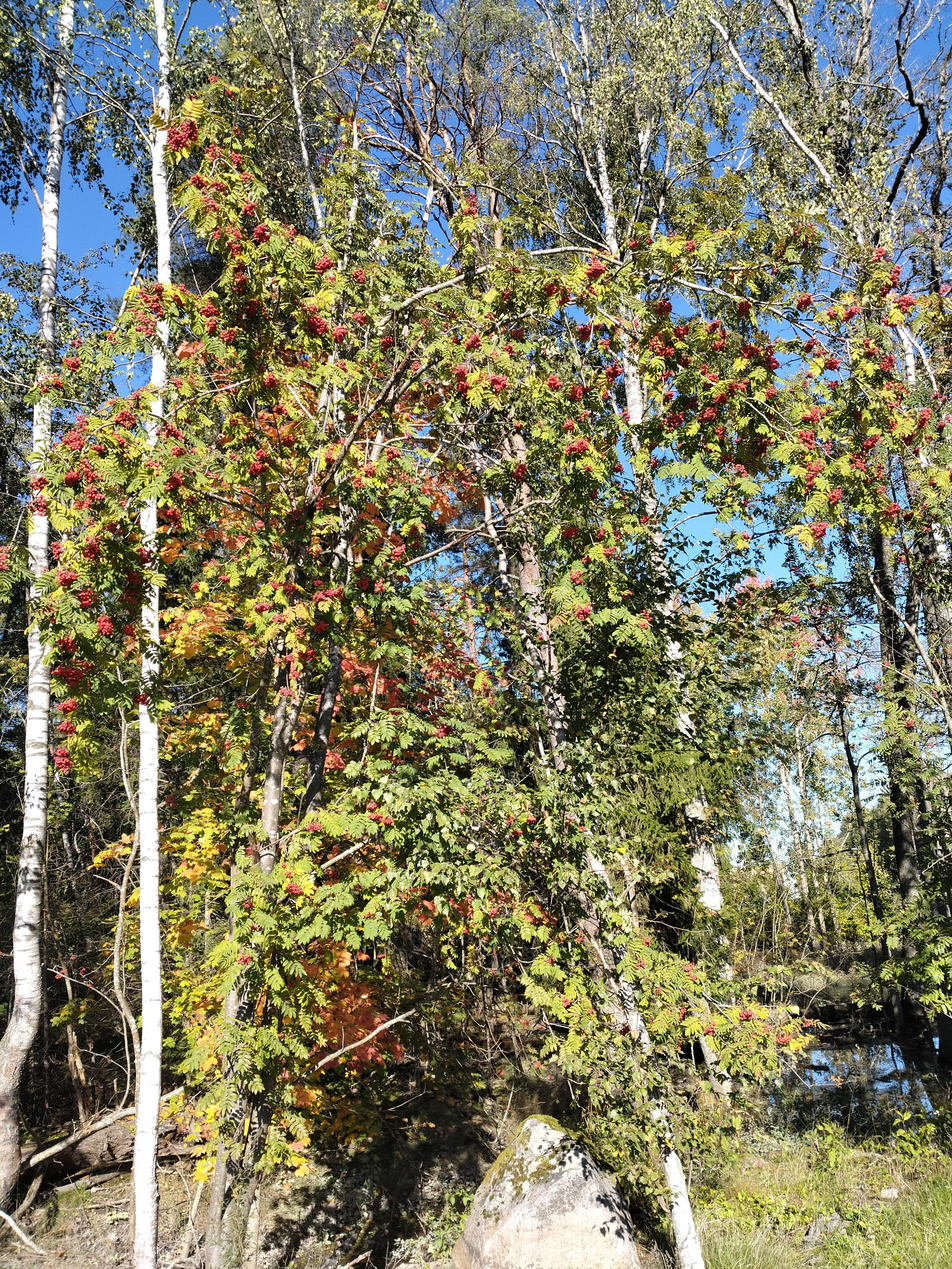Rowan: (15, 0, 952, 1214), (157, 73, 638, 1236)
